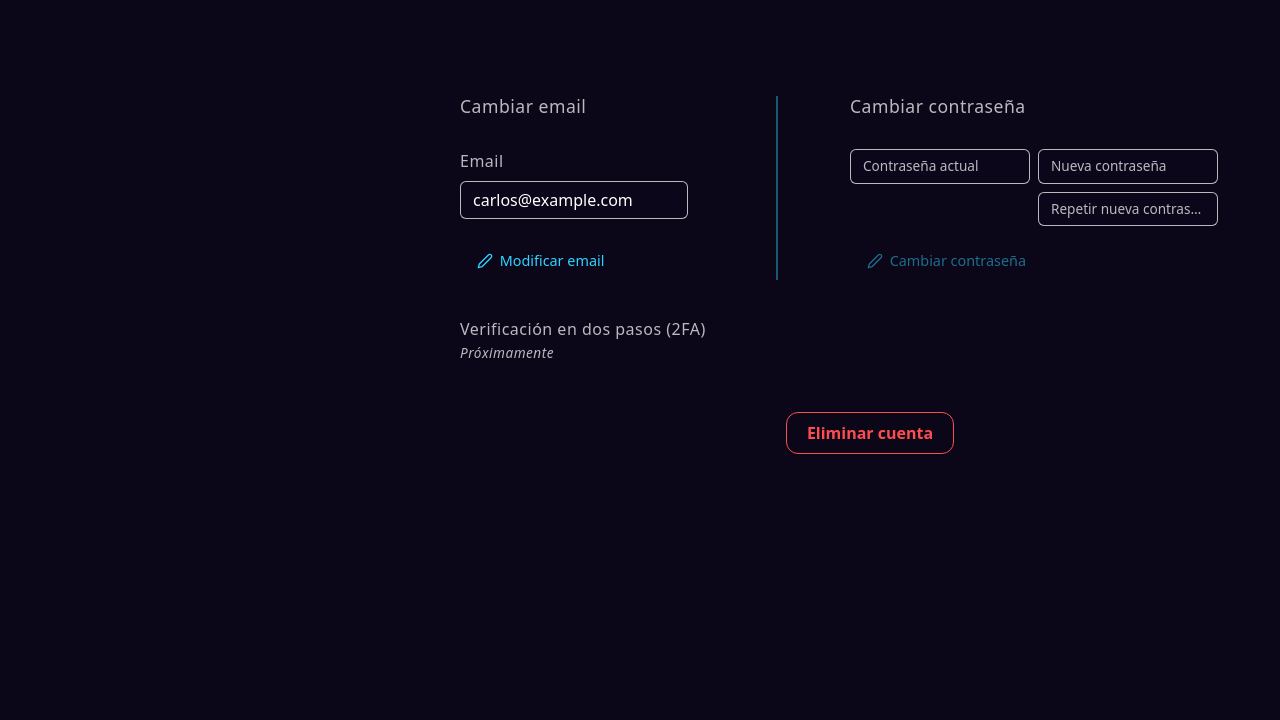
Test: EmailPasswordPanel › flujo completo de modificar email: modal -> contraseña correcta -> habilita input -> validar
Expected: the field showing "carlos@example.com" is shown, 460,181 -> 688,219
Click the button "Modificar email": click(541, 257) 460,234 -> 622,280
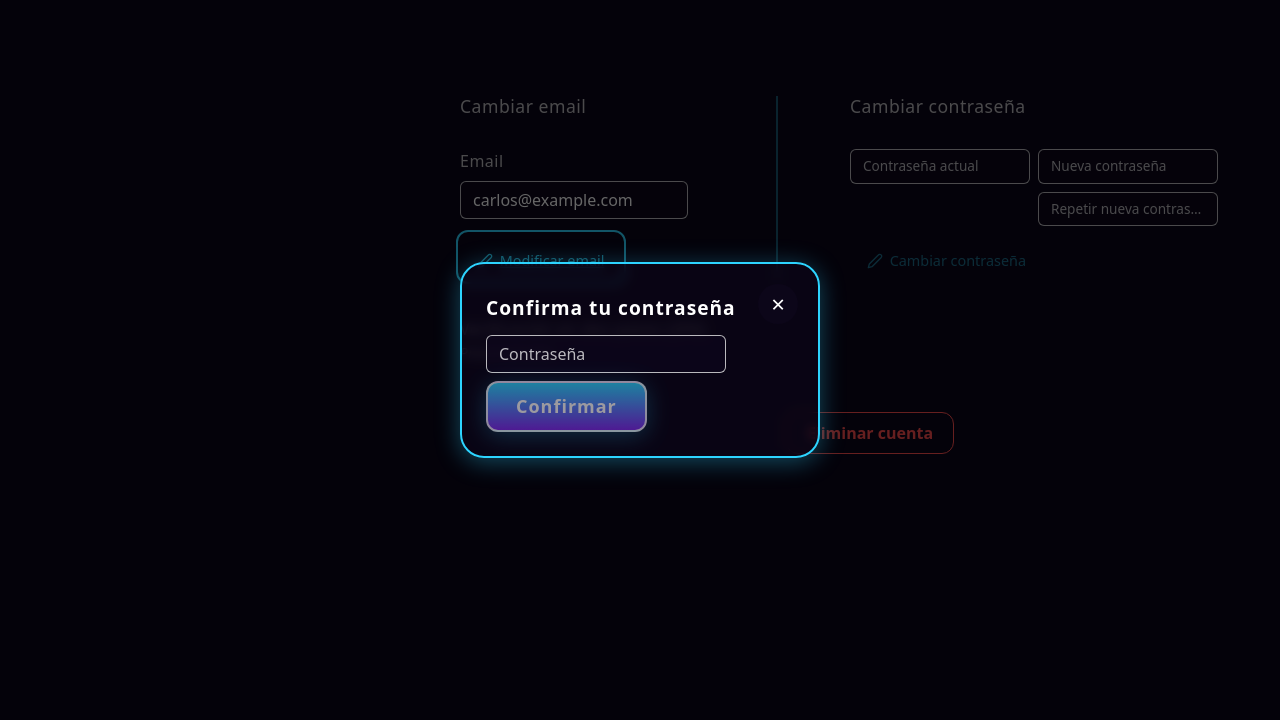
Expected: the dialog is shown, 460,262 -> 820,458
In the password field labelled "Contraseña": (606, 354) 486,335 -> 726,373, type "secreta123"
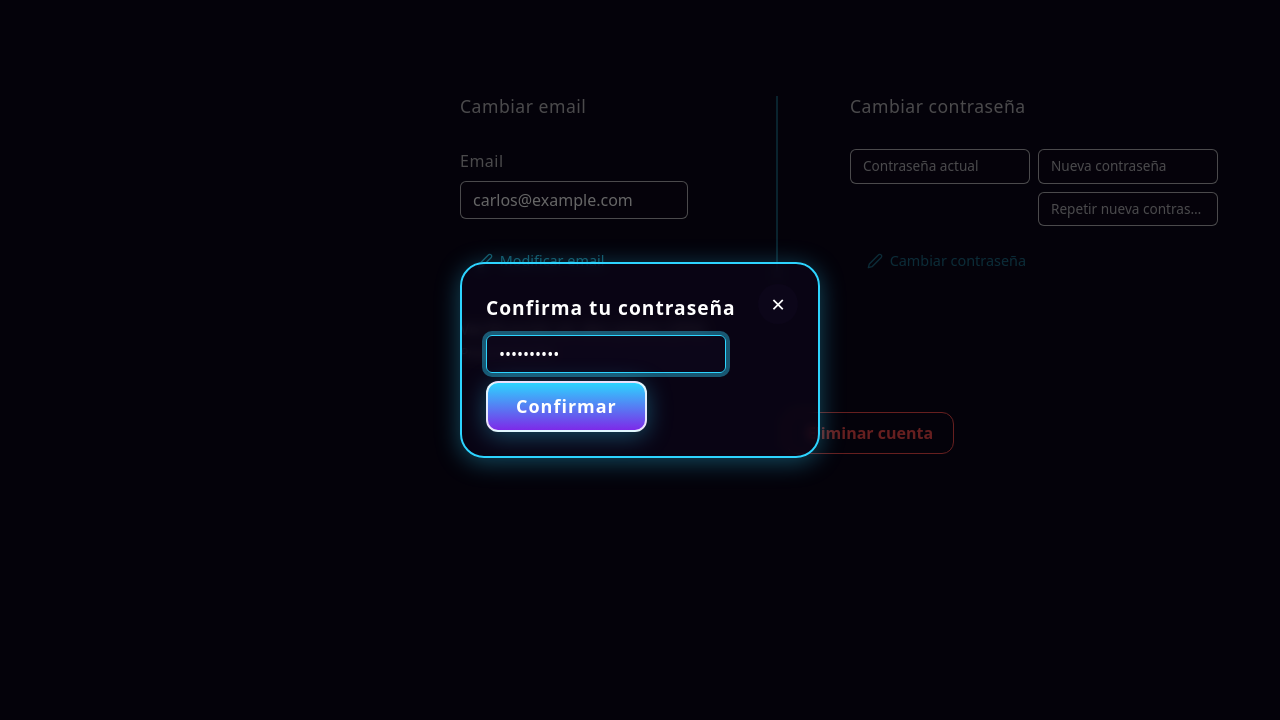
Click the button "Confirmar": click(566, 406) 486,381 -> 647,432
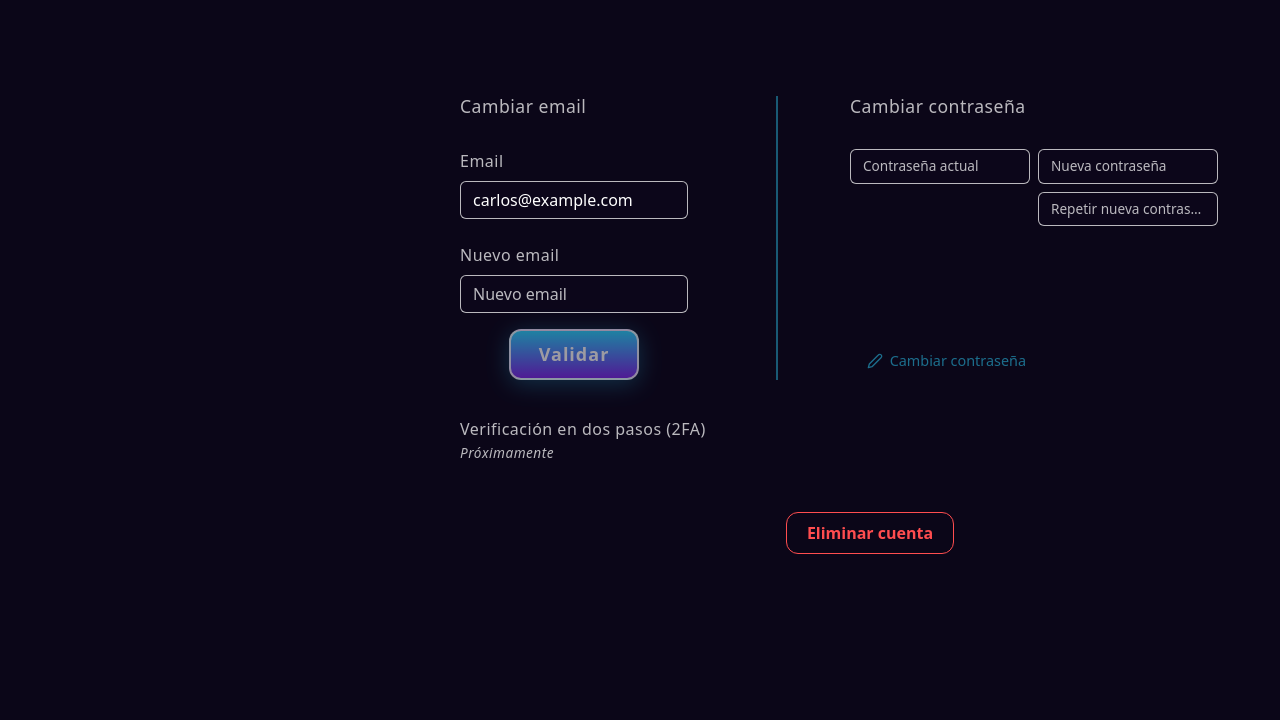
Expected: the dialog is gone
In the field labelled "Nuevo email": (574, 294) 460,275 -> 688,313, type "nuevo@example.com"
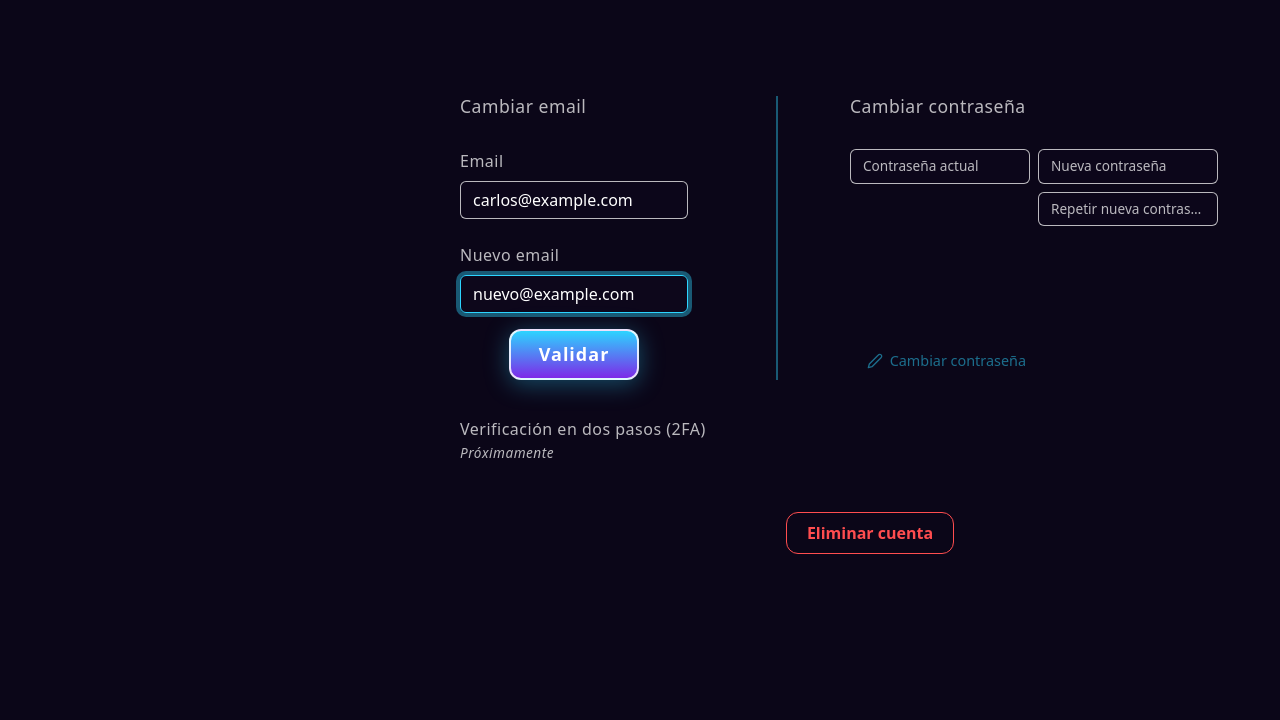
Click the button "Validar": click(574, 355) 509,329 -> 639,380
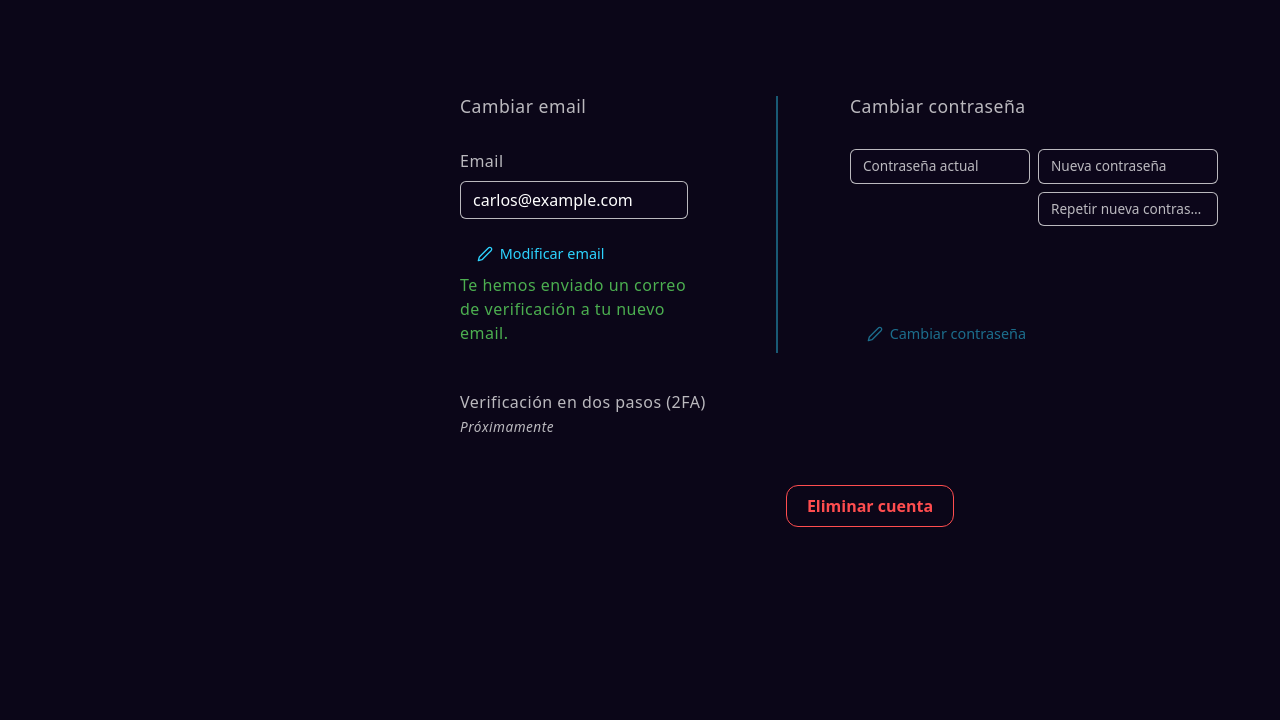
Expected: the message shows "correo de verificación", 460,274 -> 686,344
